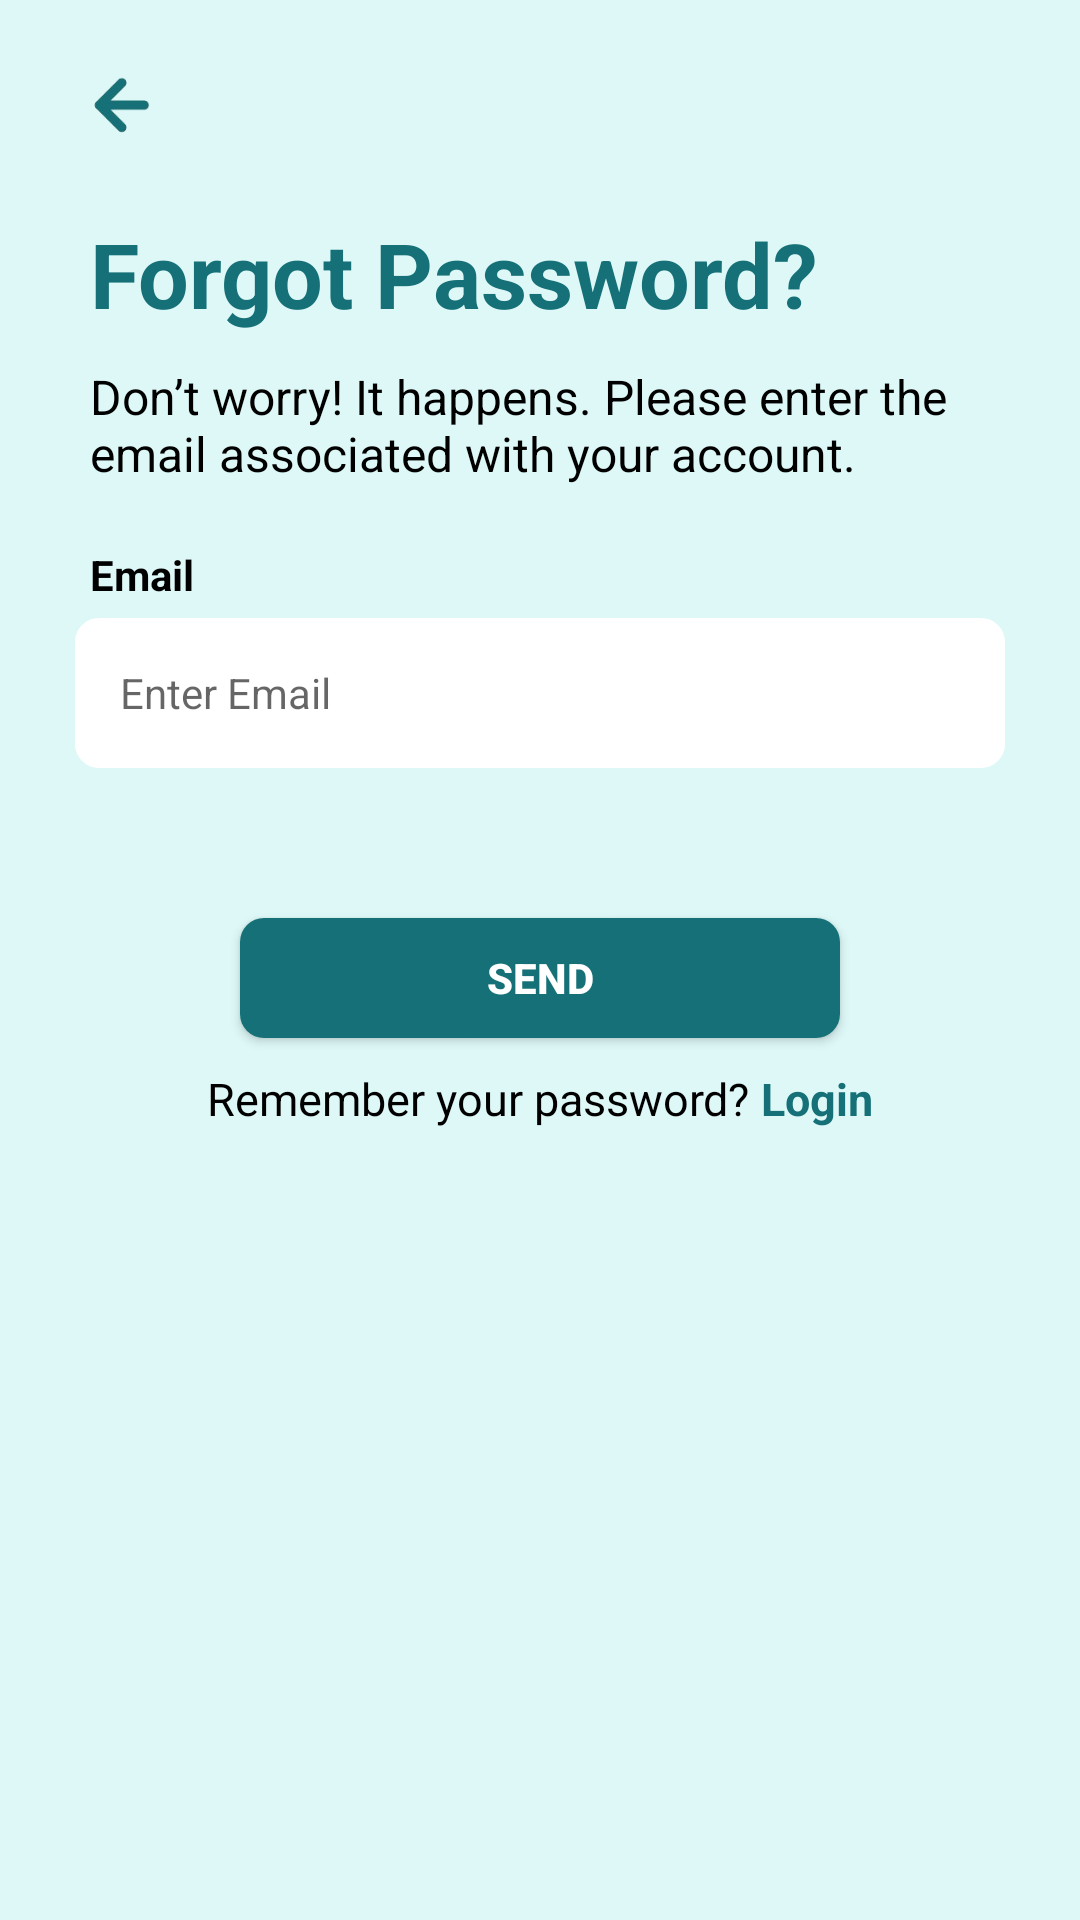

Icons on this 1080×1920 Android screen, each with the point to tap as (x=x, y=y):
back arrow: (x=121, y=105)
